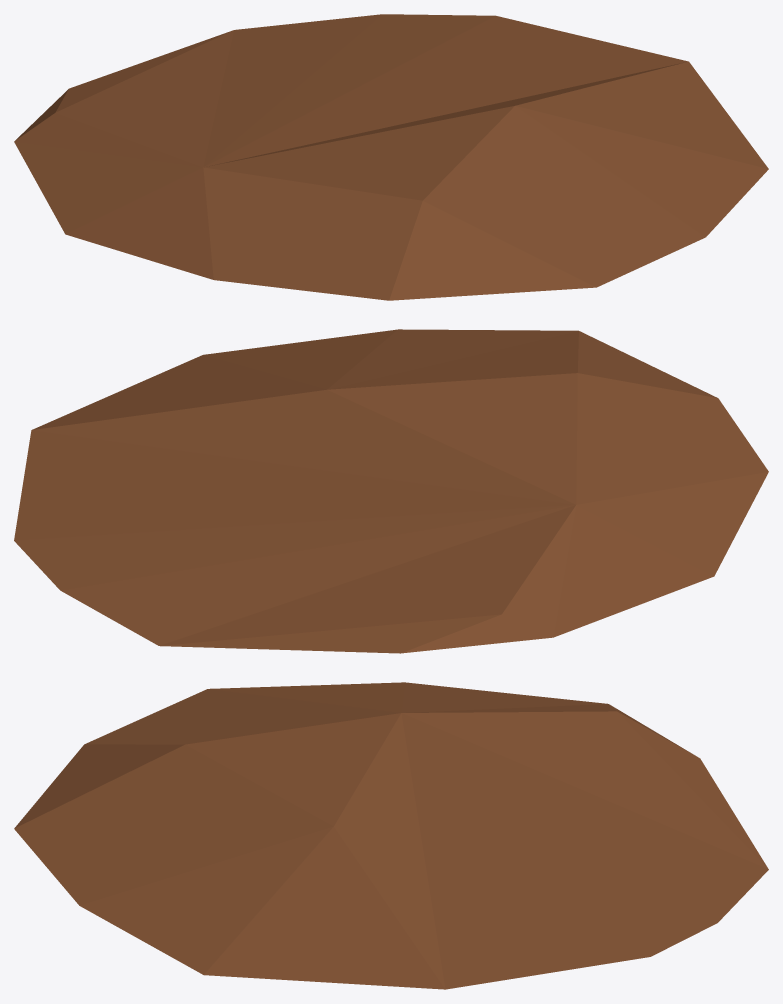
Rendered from SM_Prop_Pot_Large_Soup_01.glb.
3 renders of one model, top to bottom at view 1: azimuth 30°, elevation 25°; view 2: azimuth 150°, elevation 25°; view 3: azimuth 270°, elevation 25°, orthographic. The views are drawn at different scales.
Visible parts, largest first — view 1: SM_Prop_Pot_Large_Soup_01; view 2: SM_Prop_Pot_Large_Soup_01; view 3: SM_Prop_Pot_Large_Soup_01.
Part boxes in pixels (<box>): SM_Prop_Pot_Large_Soup_01: <box>14,14,768,300</box>; SM_Prop_Pot_Large_Soup_01: <box>14,329,768,653</box>; SM_Prop_Pot_Large_Soup_01: <box>14,682,768,989</box>.
Size of the model in its own units: 1.19 by 0.1315 by 1.24.
1 material, 1 textured.
